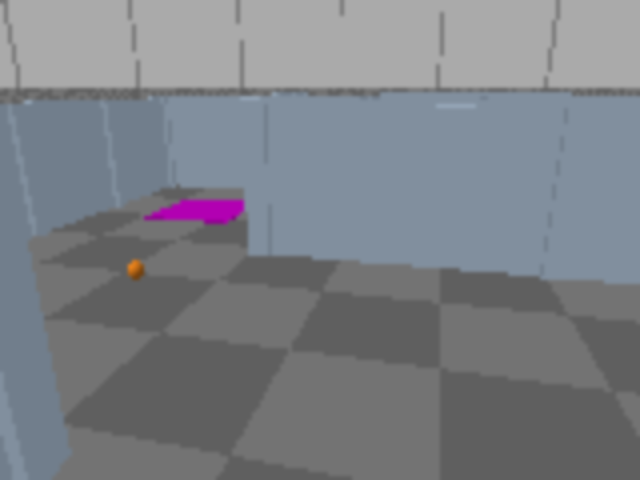goal_zone: (146, 198, 258, 224)
puck: (123, 257, 150, 283)
